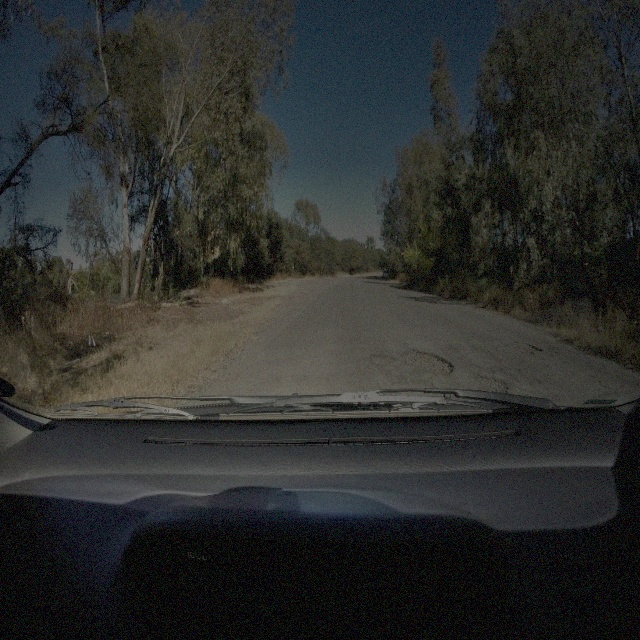pothole: (400, 345, 452, 377), (474, 370, 510, 393), (504, 338, 543, 356), (368, 349, 392, 369)
